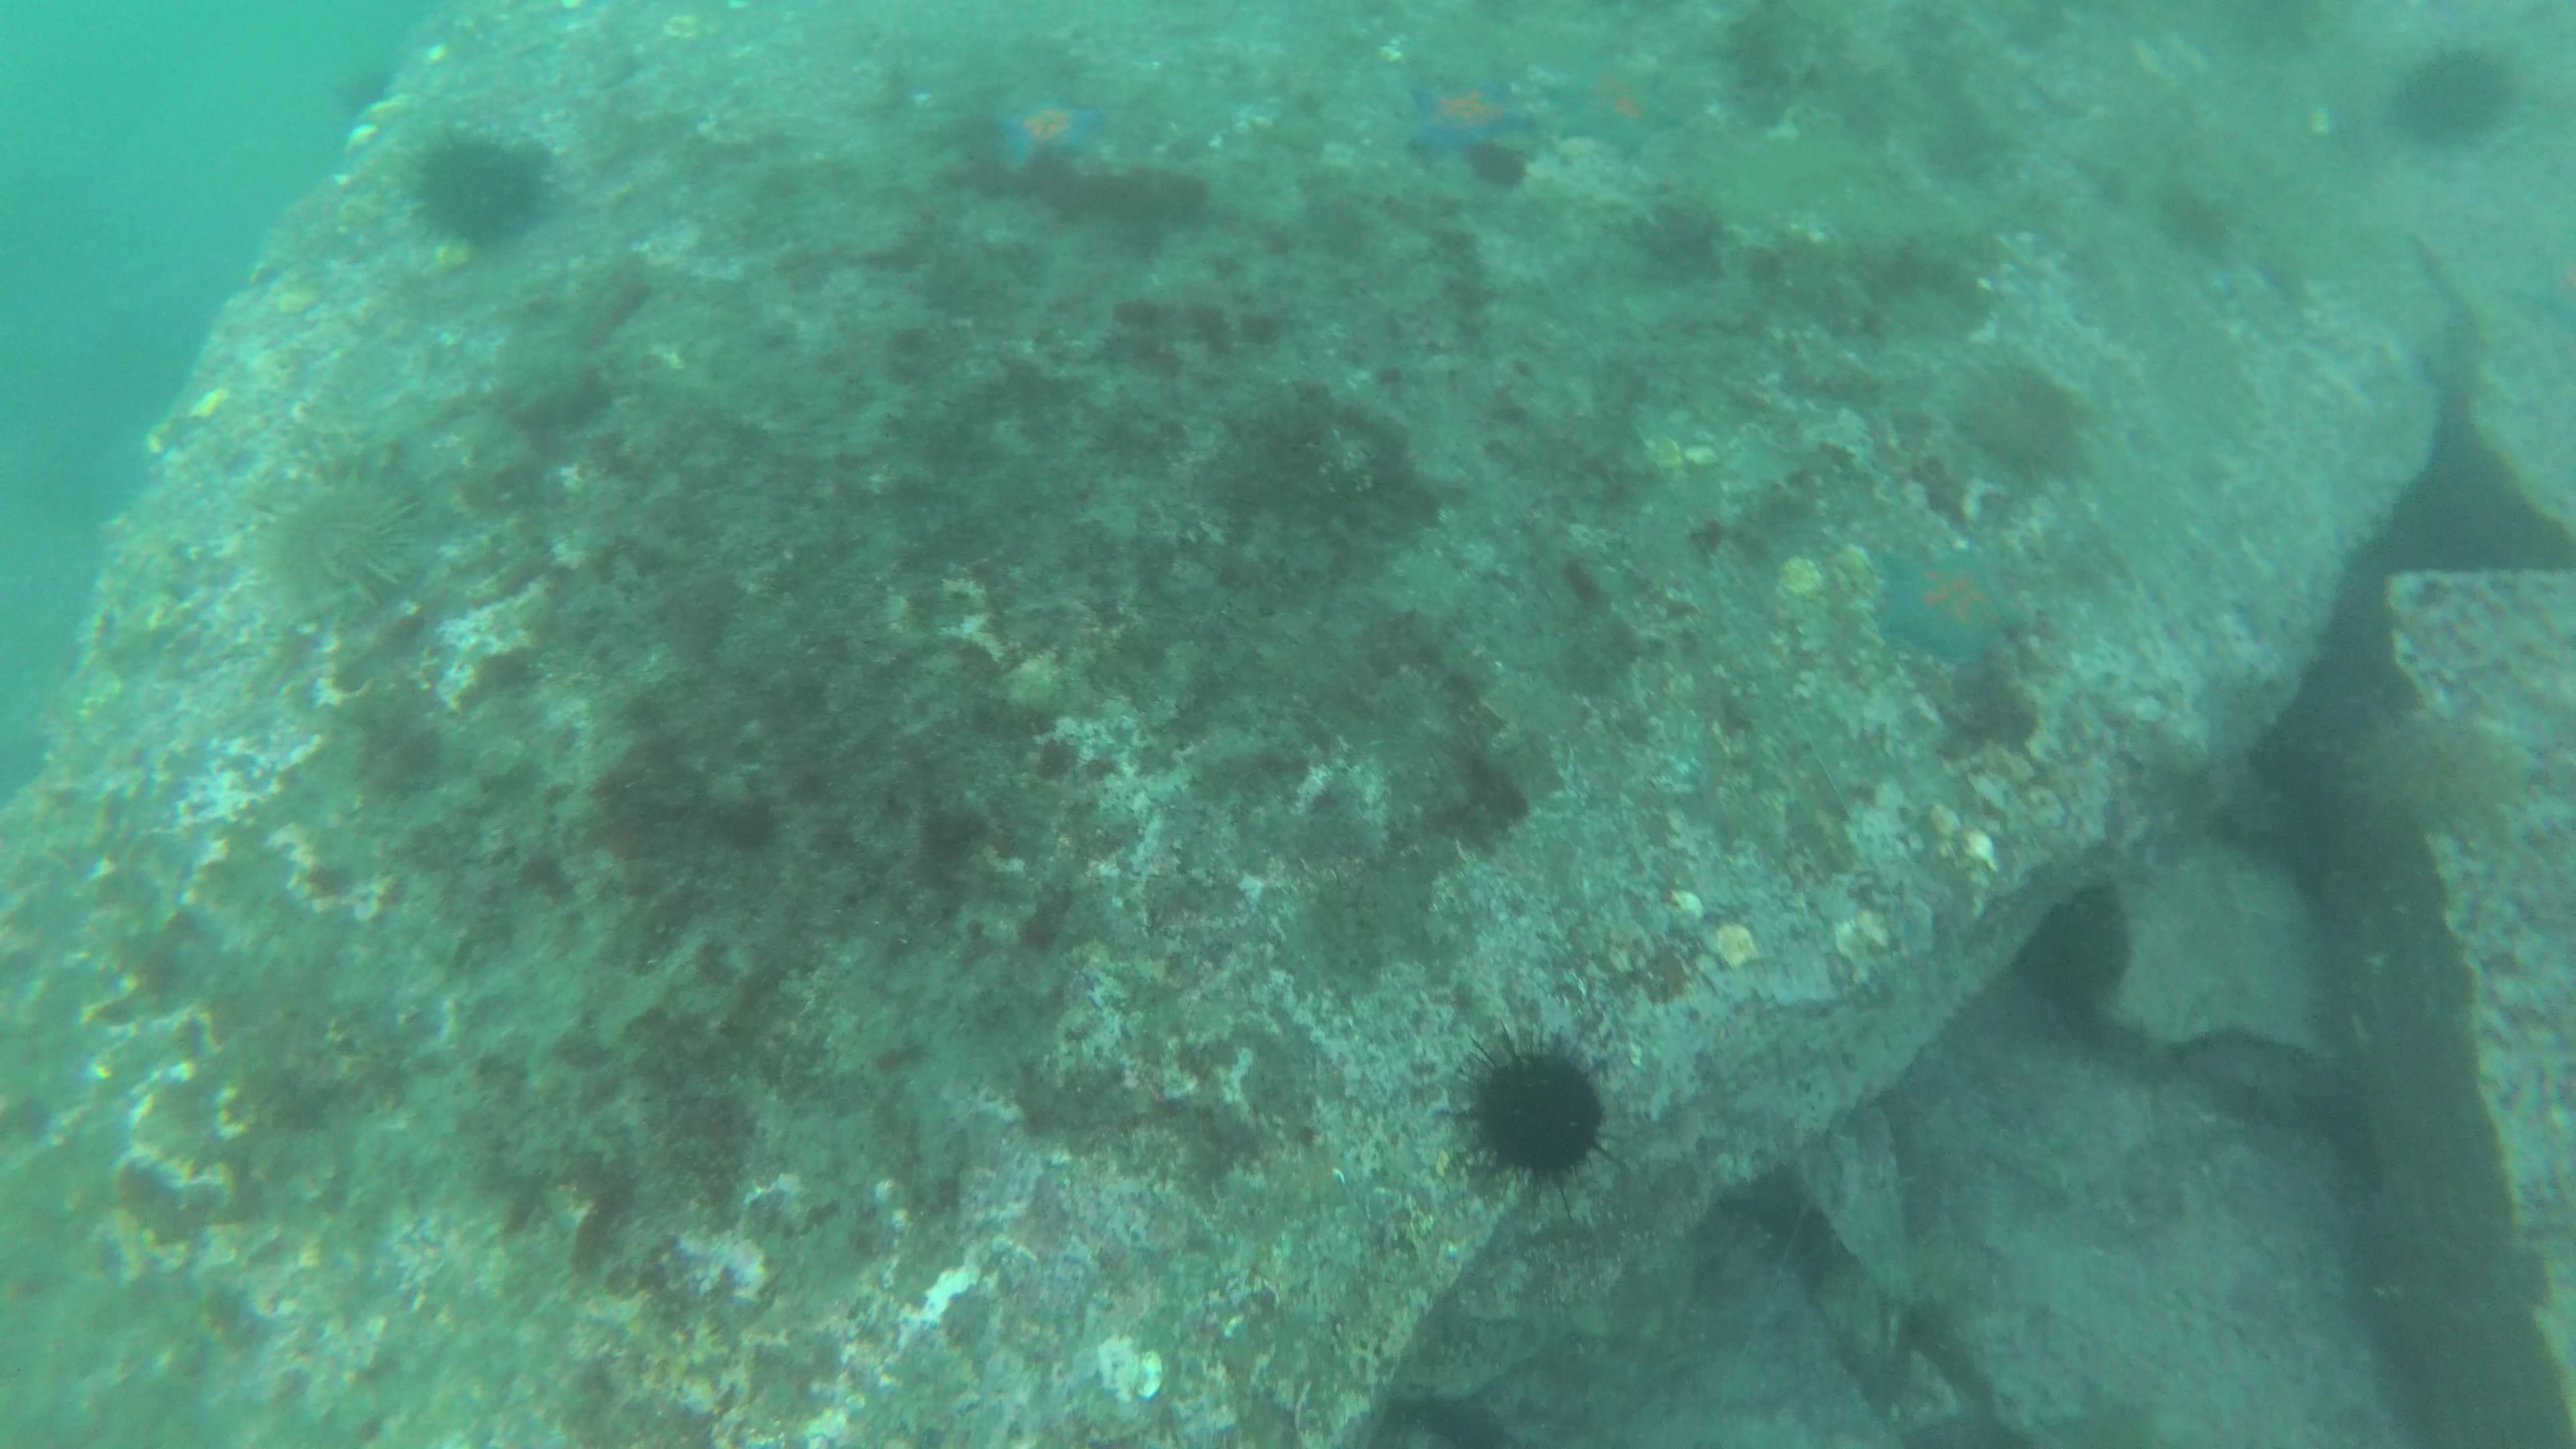echinus: (1465, 1019, 1619, 1201), (228, 462, 403, 602), (2357, 708, 2541, 839), (421, 134, 547, 246), (1980, 350, 2079, 488), (2404, 37, 2509, 142)
starfish: (1872, 518, 2006, 658), (1399, 58, 1529, 161), (1560, 48, 1684, 152), (991, 87, 1111, 170)
